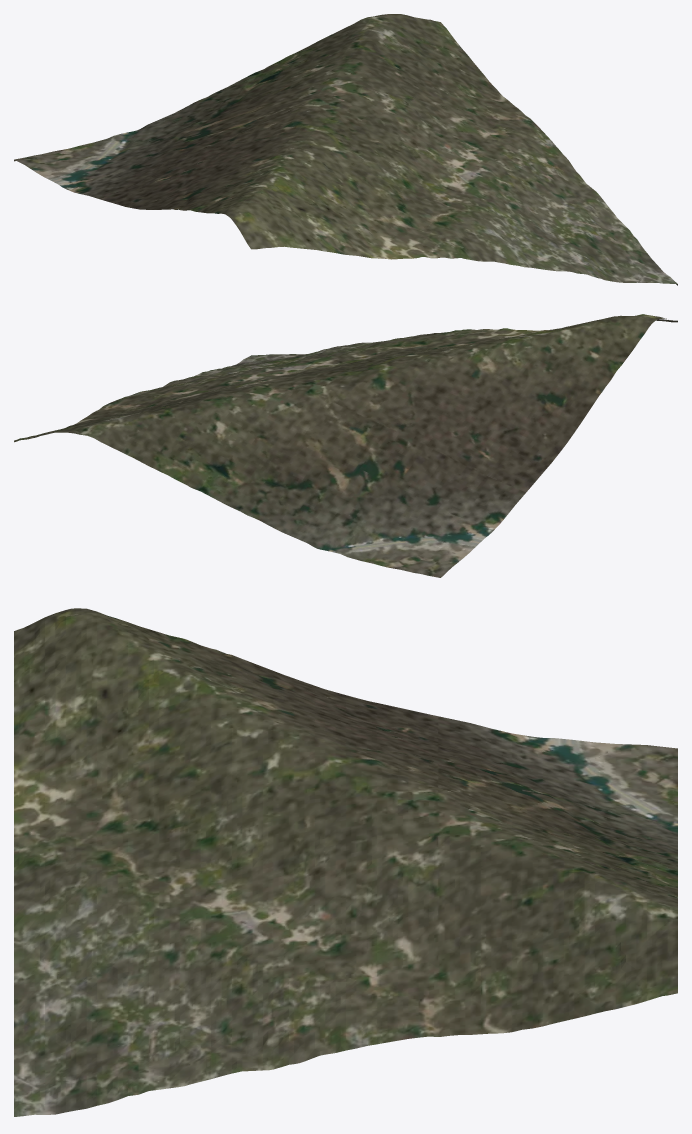
3 renders of one model, top to bottom at view 1: azimuth 30°, elevation 25°; view 2: azimuth 150°, elevation 25°; view 3: azimuth 270°, elevation 25°, orthographic. The views are drawn at different scales.
Bounding box in the file's own units: 250 × 89.06 × 241.
Materials: 1 (1 with a texture image).
